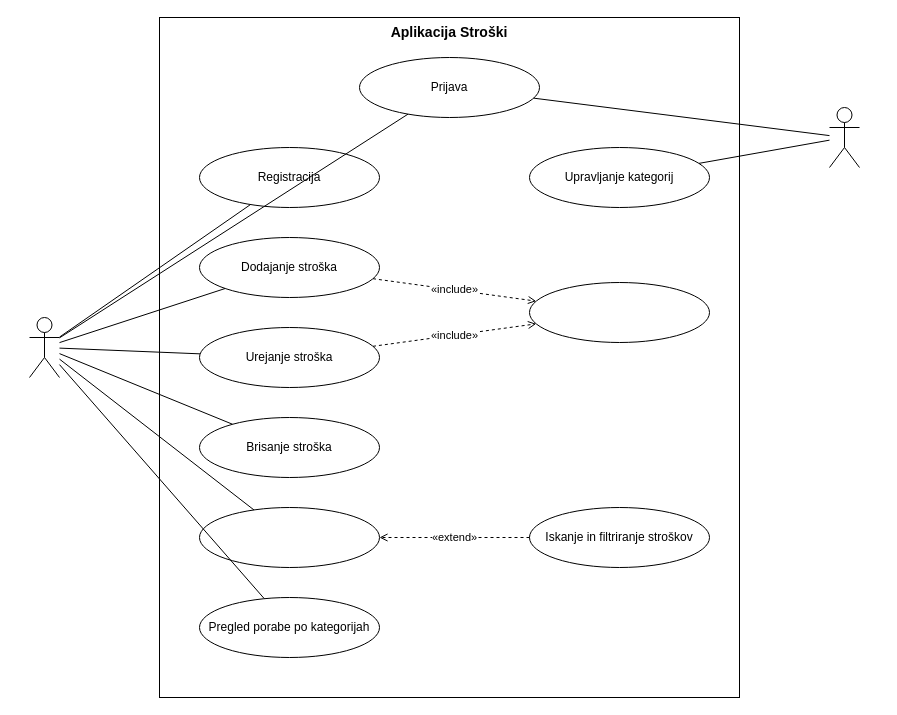
Image size: 897x715. Some labels were removed from this diagram. Here are the shapes that lost their labels. From the top down, the centre of each, then its label:
the point at 844,137: Administrator
the point at 619,312: Izbira kategorije
the point at 44,347: Uporabnik
the point at 289,537: Pregled seznama stroškov
